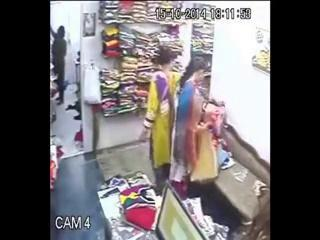shoplifting: (178, 52, 225, 186)
